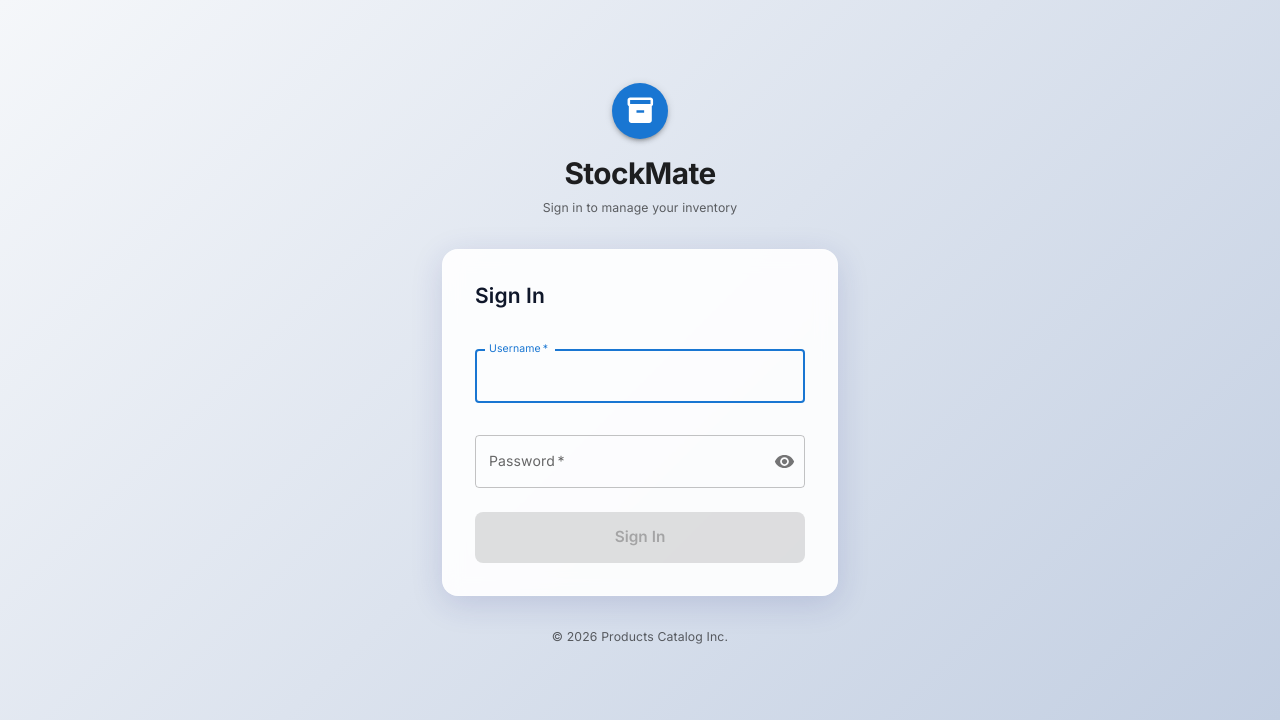
Test: LoginPage › shows a network error when the login request fails
The image size is (1280, 720).
Type "admin" into the field labelled "Username *" at (640, 376), box [475,350,805,403]
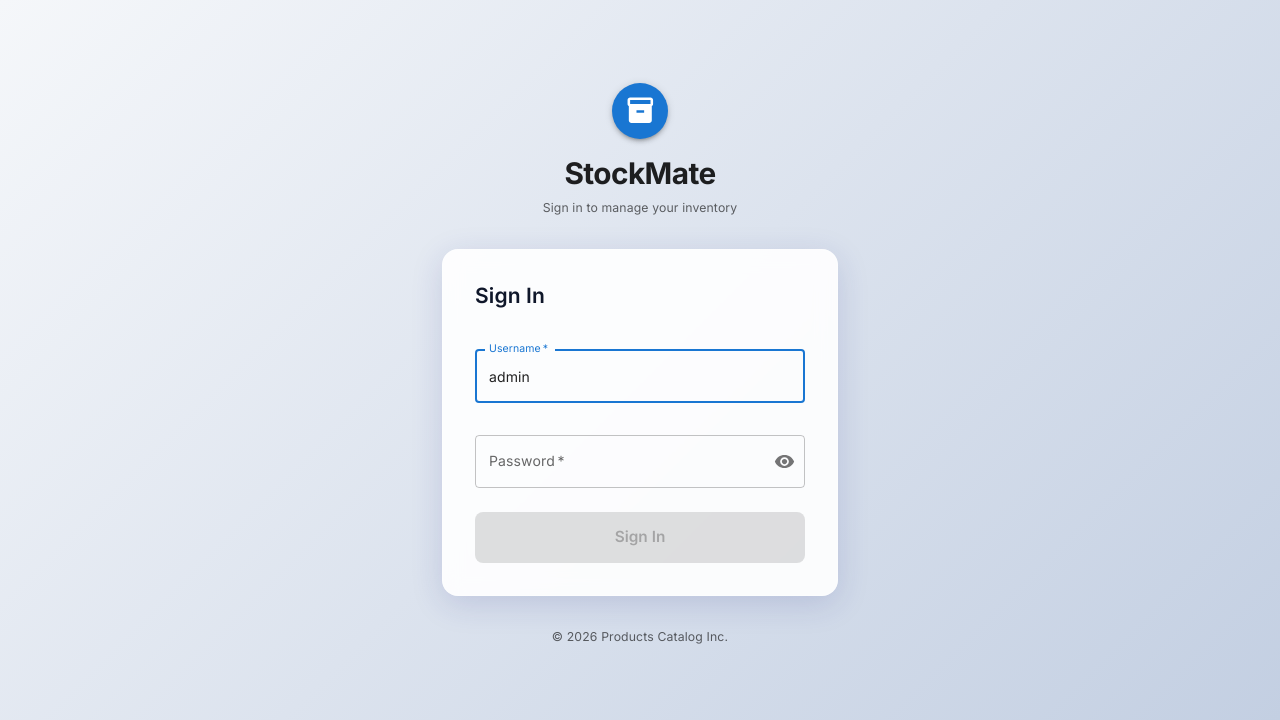
Type "password123" into the password field labelled "Password *" at (616, 461), box [475,435,758,488]
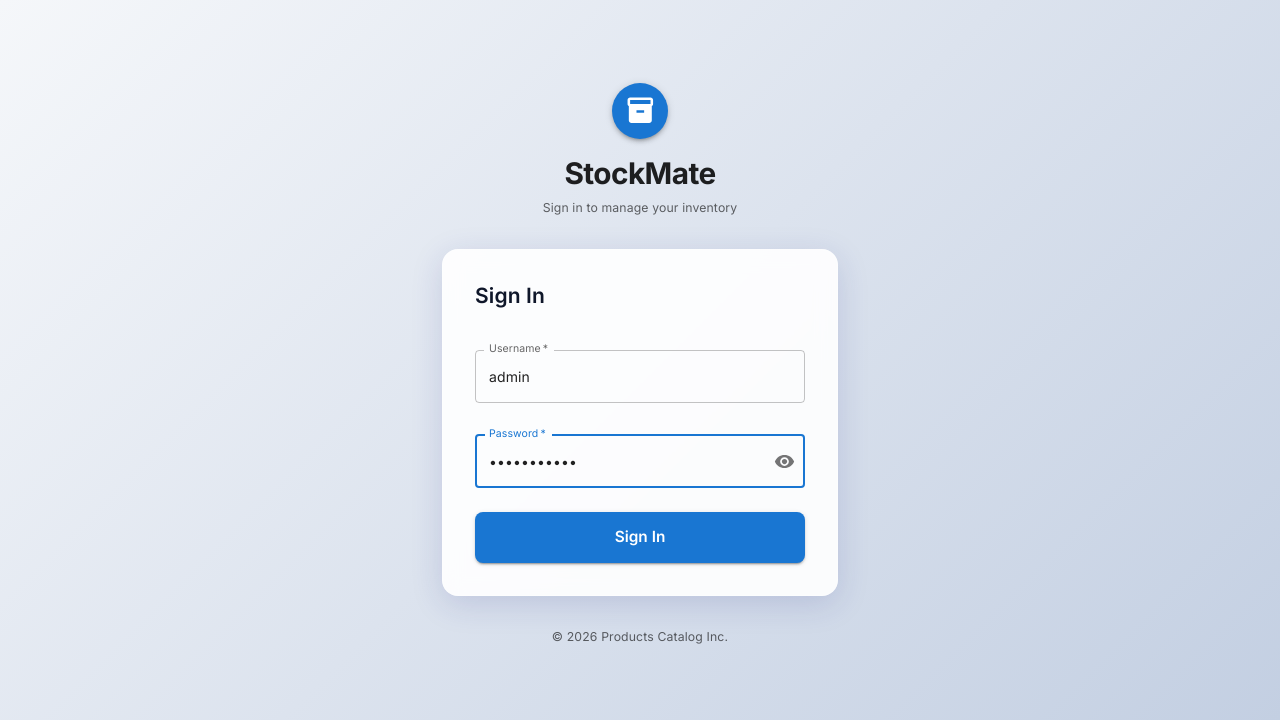
Click the button "Sign In" at (640, 538), box [475,512,805,563]
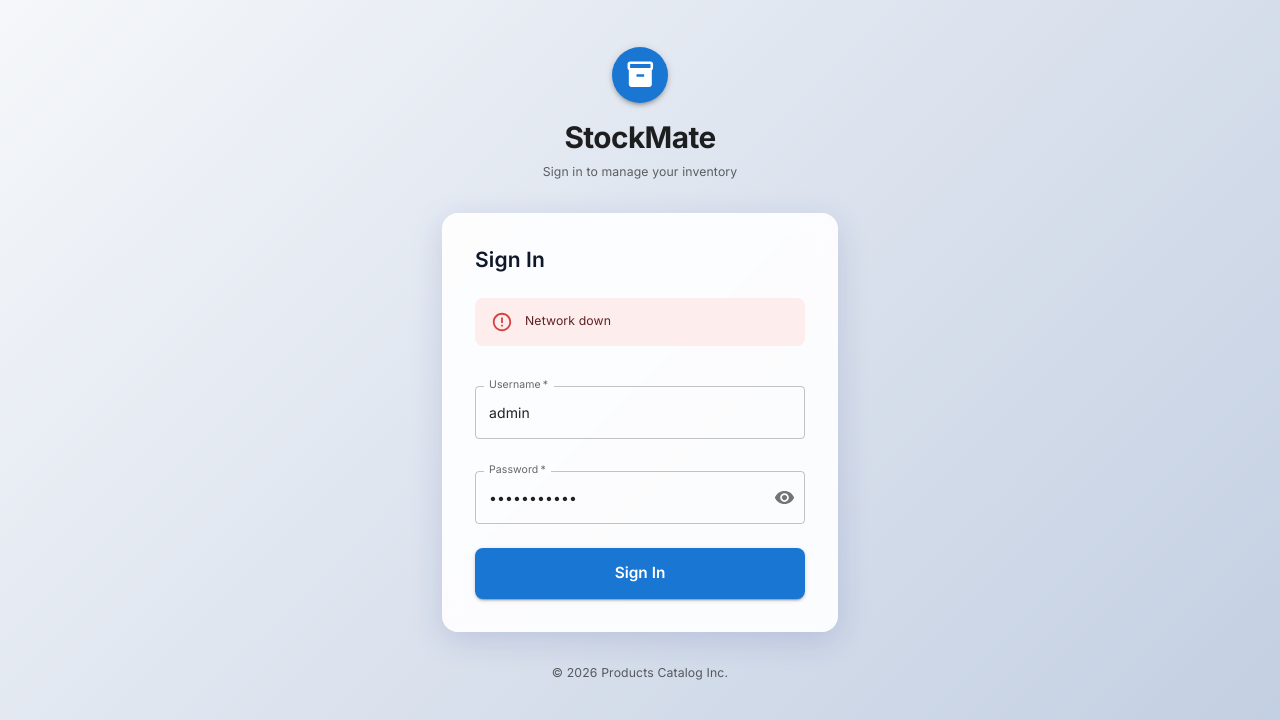
Expected: the text "Network down" is shown, [525,313,611,328]
